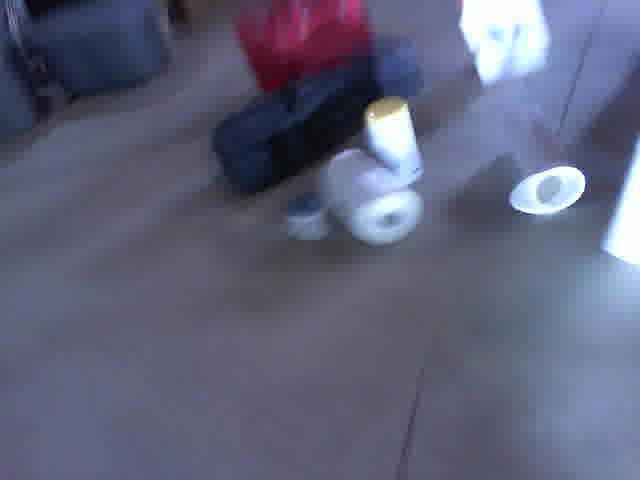coral: (499, 92, 577, 223), (590, 123, 640, 263)
